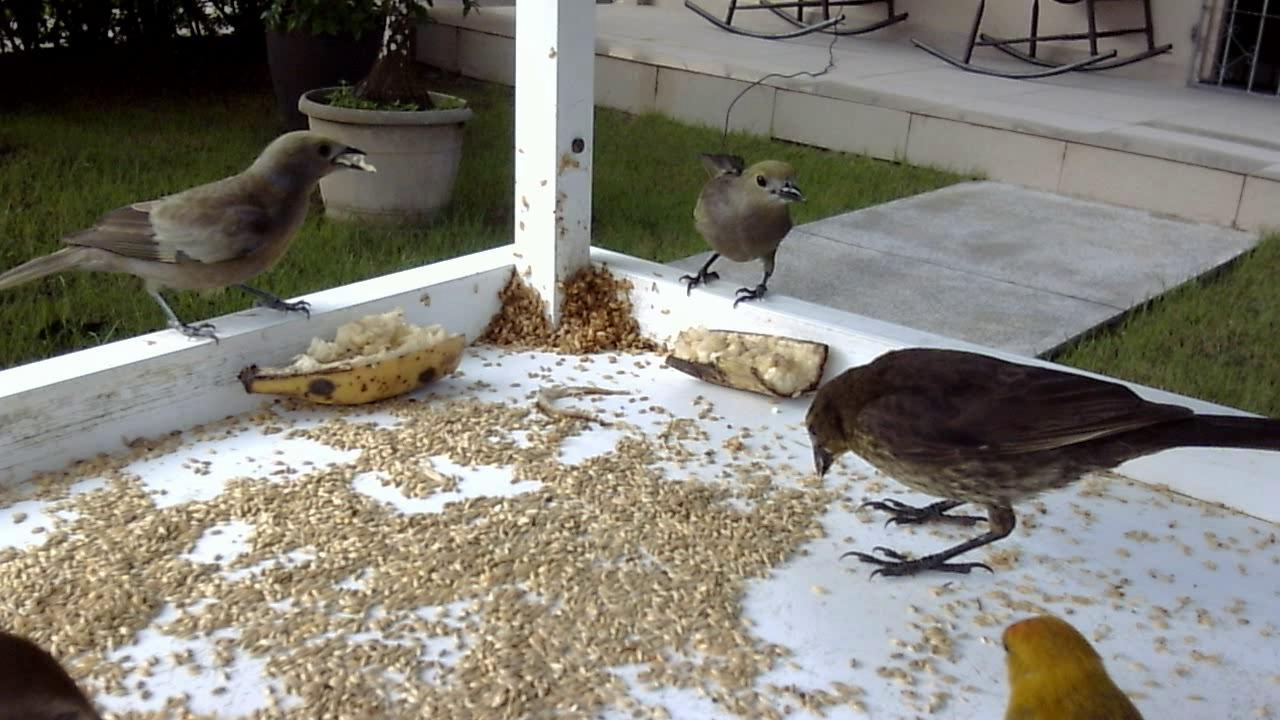canario_do_amazonas: (989, 611, 1157, 718)
chupim: (789, 327, 1276, 600)
sanhaco_do_coqueiro: (1, 129, 379, 363), (668, 141, 811, 313)
